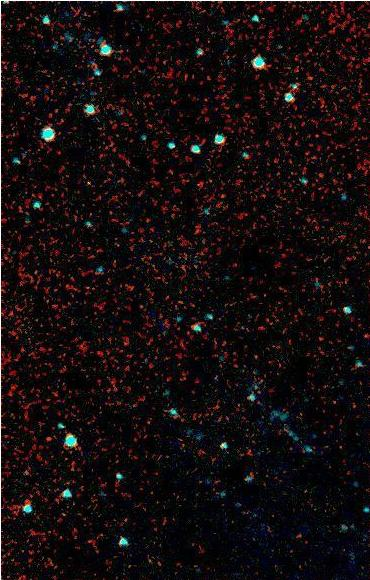star: (33, 424, 63, 454)
